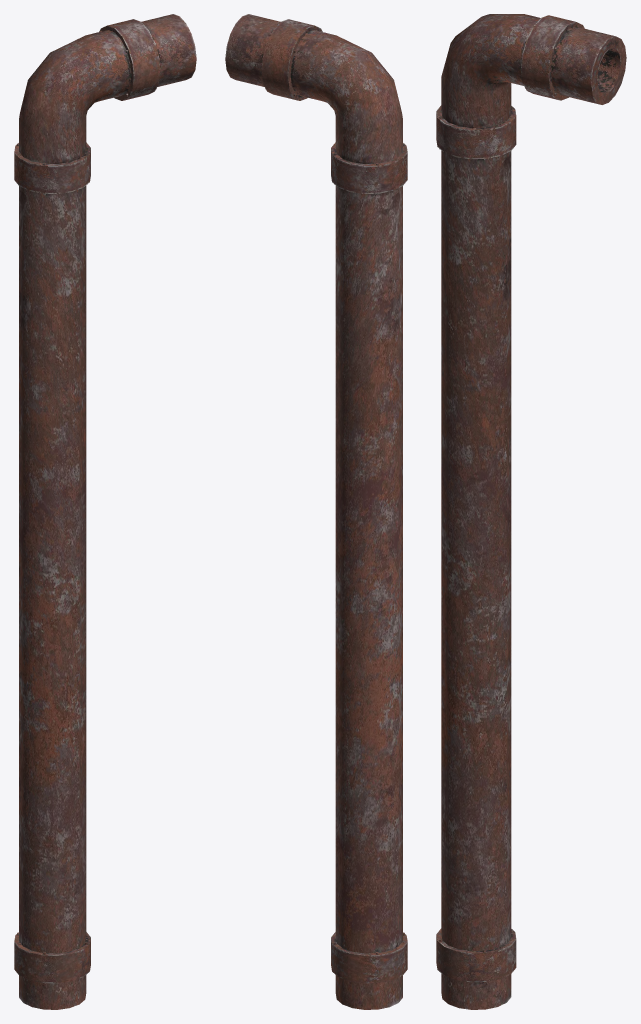
The model's file is RustyPipe.glb.
3 renders of one model, left to right at view 1: azimuth 30°, elevation 25°; view 2: azimuth 150°, elevation 25°; view 3: azimuth 330°, elevation 25°, orthographic. The views are drawn at different scales.
Parts seen in each view (by area): view 1: Rusty_Pipe; view 2: Rusty_Pipe; view 3: Rusty_Pipe.
Boxes of the visible parts, x1,y1,x2,y2 form: Rusty_Pipe: (14, 14, 196, 1009); Rusty_Pipe: (225, 14, 407, 1009); Rusty_Pipe: (436, 14, 626, 1009).
Size of the model in its own units: 0.0955 by 0.5412 by 0.0398.
1 material, 1 textured.
